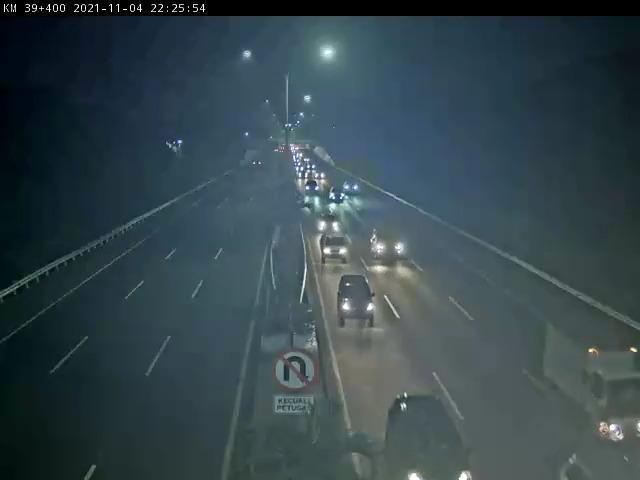car: (335, 272, 377, 327), (372, 225, 407, 262), (317, 232, 351, 264), (318, 212, 345, 236), (330, 184, 349, 204)
truck: (540, 317, 640, 445)
